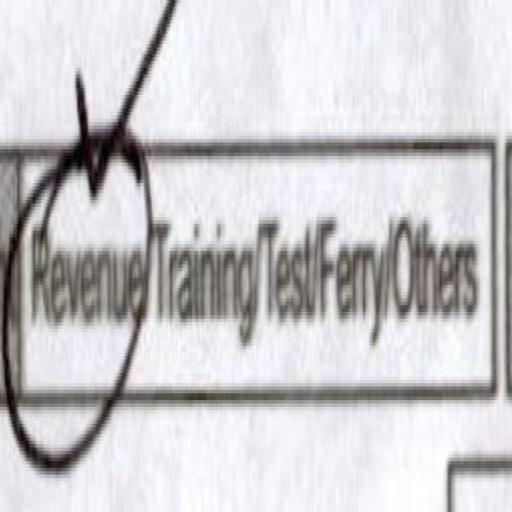check: (19, 26, 150, 482)
